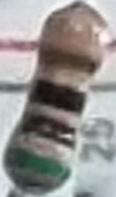Black: (16, 113, 77, 151), (30, 80, 86, 114)
Brown: (39, 46, 102, 77)
Green: (5, 146, 72, 182)
Side-Silver: (42, 18, 111, 54)
